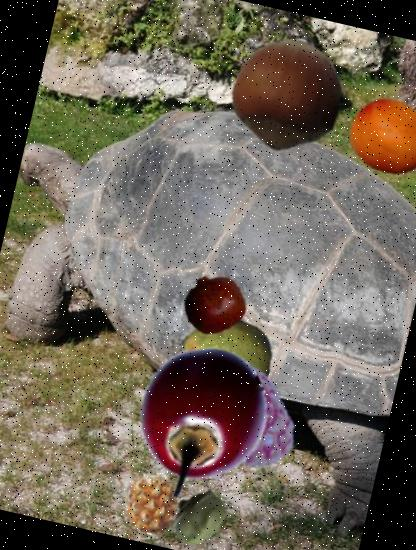Apricot: (340, 87, 416, 189)
Kohlrabi: (162, 482, 235, 550)
Limes: (171, 304, 280, 414)
Nut: (217, 25, 355, 163)
Pineapple: (112, 466, 188, 542)
Pomegranate: (176, 267, 250, 341)
Raspberry: (154, 343, 303, 492)
Tamarillo: (122, 332, 282, 494)
